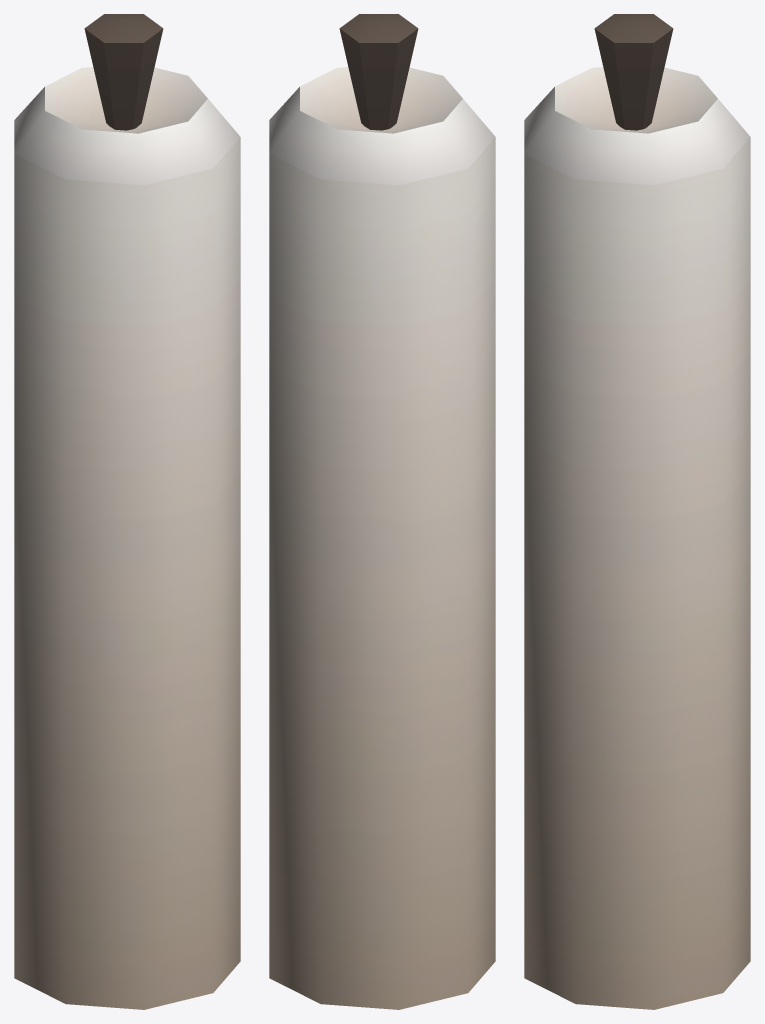
The model's file is kaykit-dungeon-remastered-candle-thin-gltf.glb.
3 views of the same model, side by side, from view 1: azimuth 30°, elevation 25°; view 2: azimuth 150°, elevation 25°; view 3: azimuth 270°, elevation 25° (orthographic).
Visible parts, largest first — view 1: candle_thin; view 2: candle_thin; view 3: candle_thin.
Part boxes in pixels (<box>): candle_thin: <box>14,14,240,1009</box>; candle_thin: <box>269,14,495,1009</box>; candle_thin: <box>524,14,750,1009</box>.
Bounding box in the file's own units: 0.1932 × 0.873 × 0.1902.
Materials: 1 (1 with a texture image).
